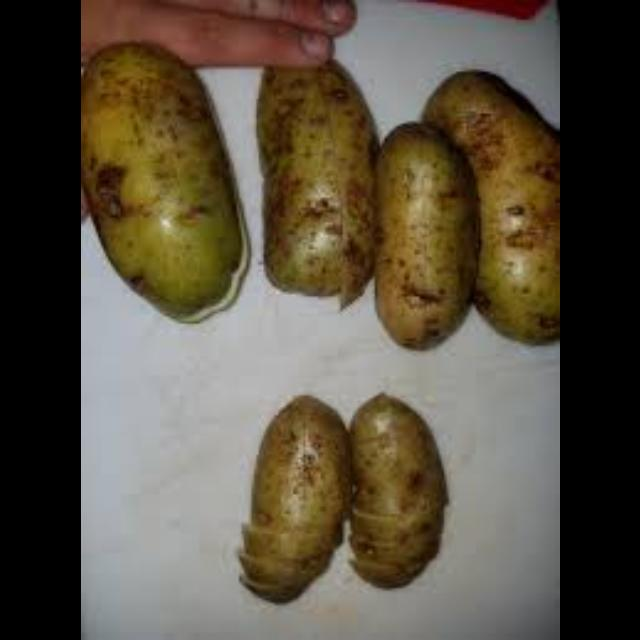Damaged potato: (82, 31, 254, 332), (431, 58, 559, 360), (256, 61, 378, 320), (362, 117, 476, 363), (338, 394, 457, 598), (241, 388, 353, 602)
